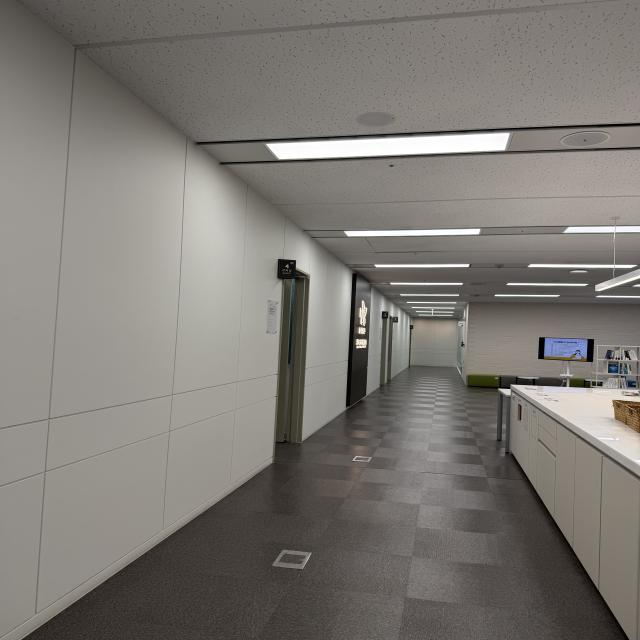sign: (281, 258, 297, 277)
